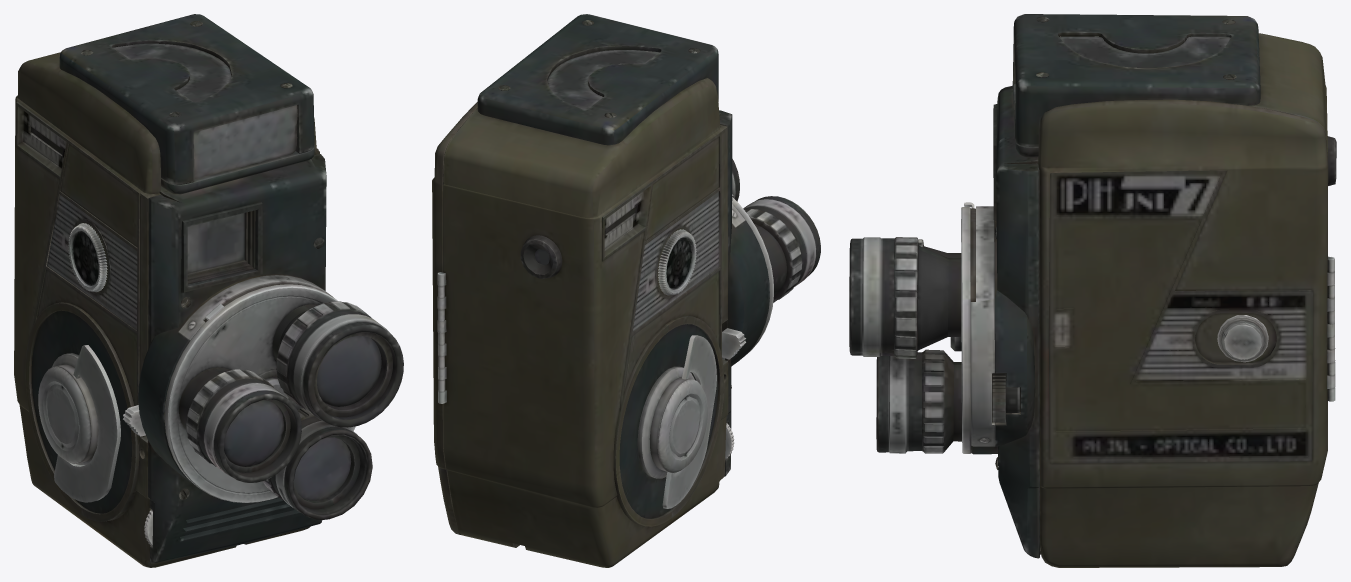
Rendered from vintage_video_camera.glb.
3 views of the same model, side by side, from view 1: azimuth 30°, elevation 25°; view 2: azimuth 150°, elevation 25°; view 3: azimuth 270°, elevation 25° (orthographic). The views are drawn at different scales.
Parts seen in each view (by area): view 1: vintage_video_camera; view 2: vintage_video_camera; view 3: vintage_video_camera.
Boxes of the visible parts, <box> form: vintage_video_camera: <box>14,14,403,567</box>; vintage_video_camera: <box>432,14,820,567</box>; vintage_video_camera: <box>849,14,1336,567</box>.
Size of the model in its own units: 0.0712 by 0.145 by 0.1326.
Materials: 2 (2 with a texture image).
